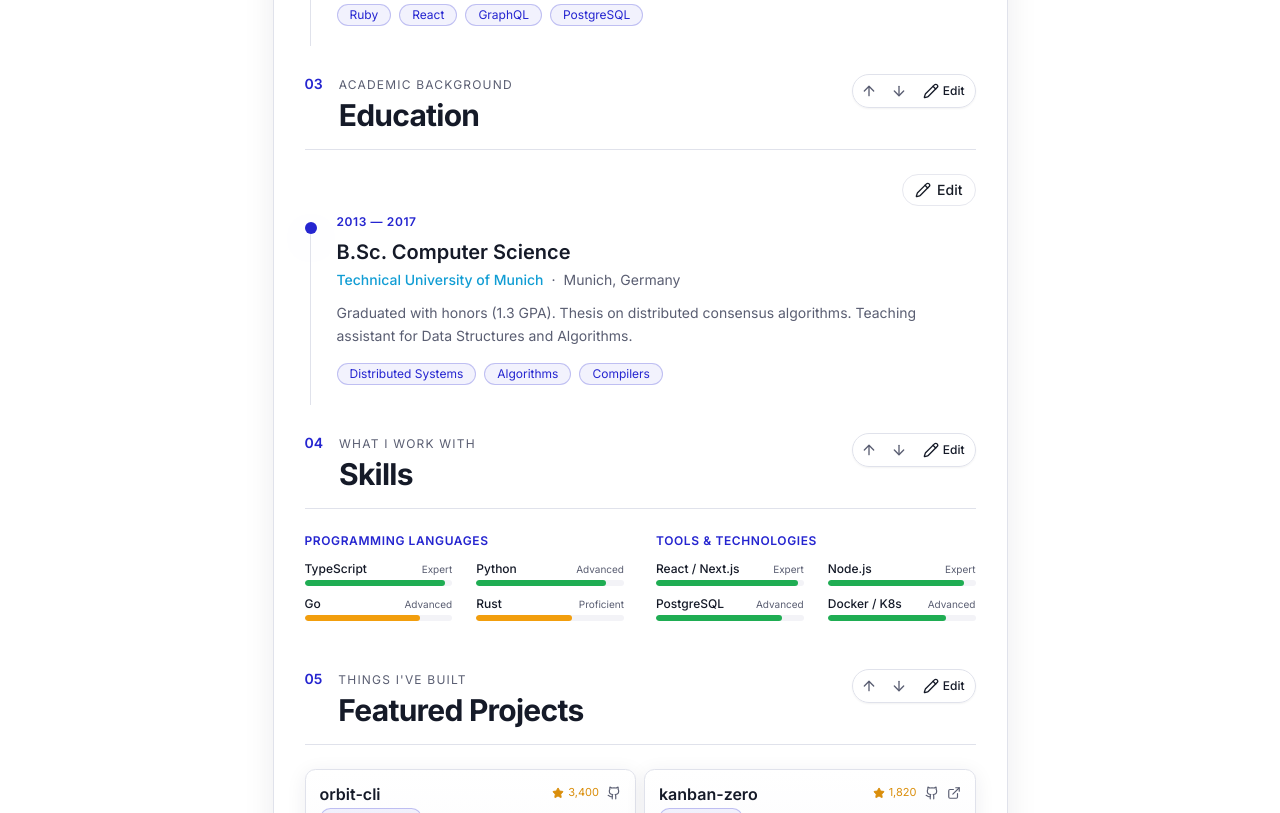
Test case: color theme + section designs › lets you pick a section design from the section's edit panel
(page scrolled)
Check: the element with class "cv-skillbar" showing "TypeScript Expert" is shown, box [304,561,452,586]
Note: Skills is the 5th editable section (hero, about, experience, education, skills).
Click the button "Edit" in the row of "What I work with" at (944, 450), box [915,436,972,464]
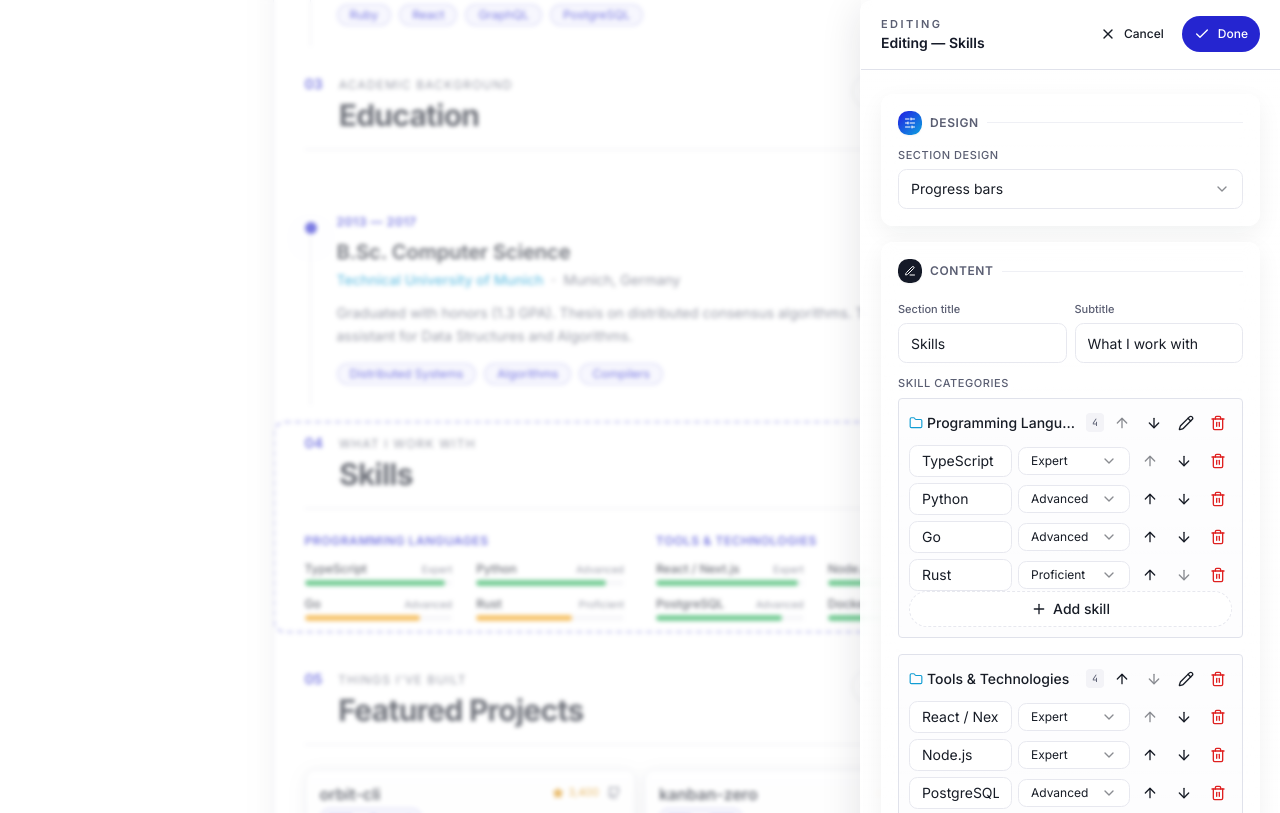
Check: the heading "Editing — Skills" is shown, box [881,32,985,52]
Click the dropdown named "Section design" at (957, 188), box [898,169,1243,209]
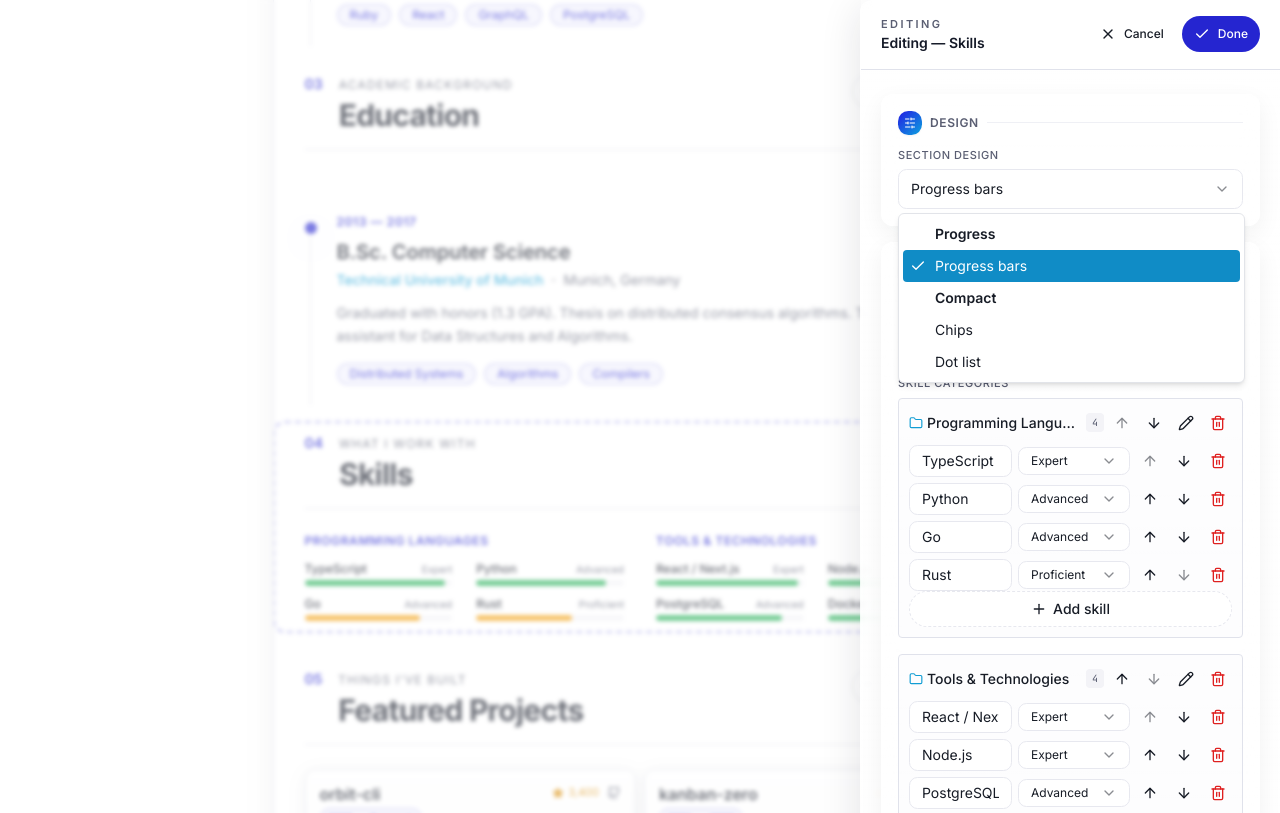
Click the option "Dot list" at (958, 362), box [935,353,981,370]
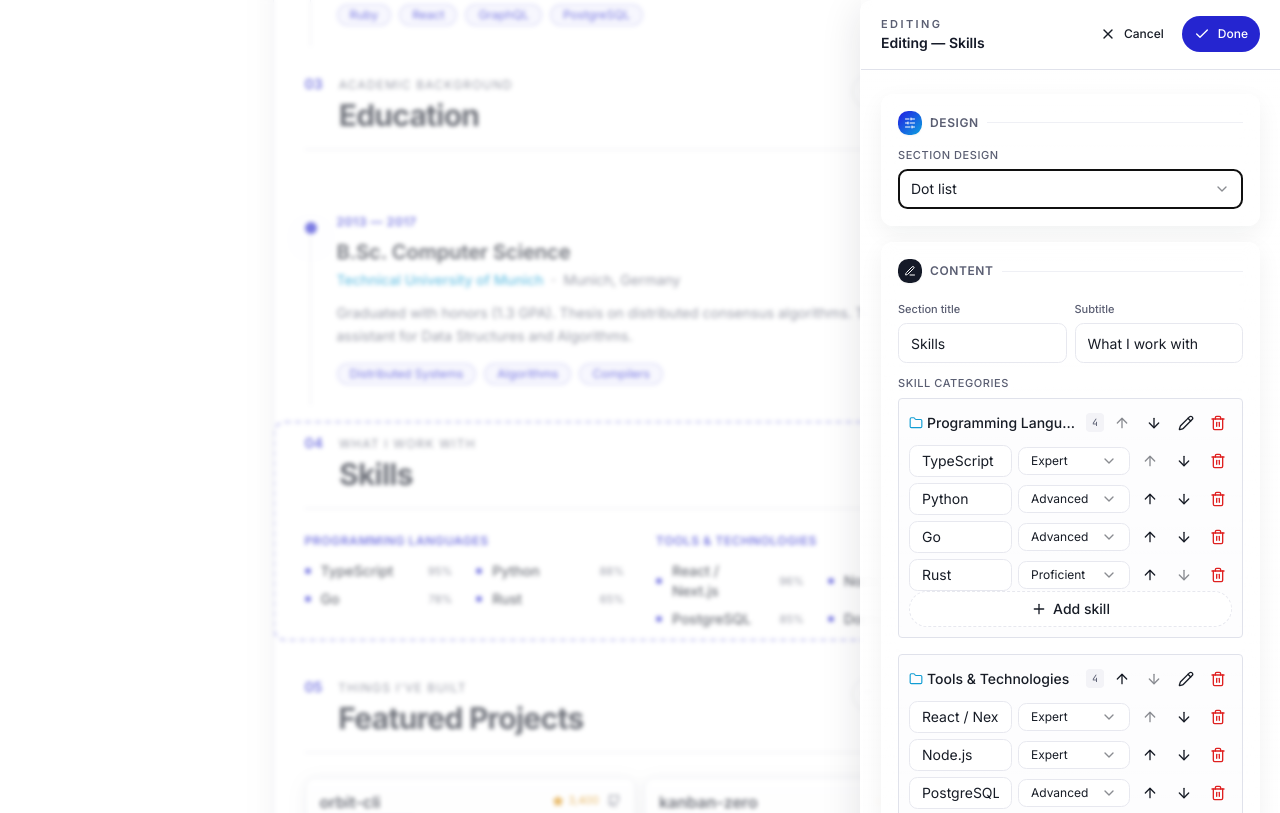
Check: the list item with class "cv-skill-dot" showing "TypeScript 95%" is shown, box [304,561,452,581]
Check: the element with class "cv-skillbar" is gone
